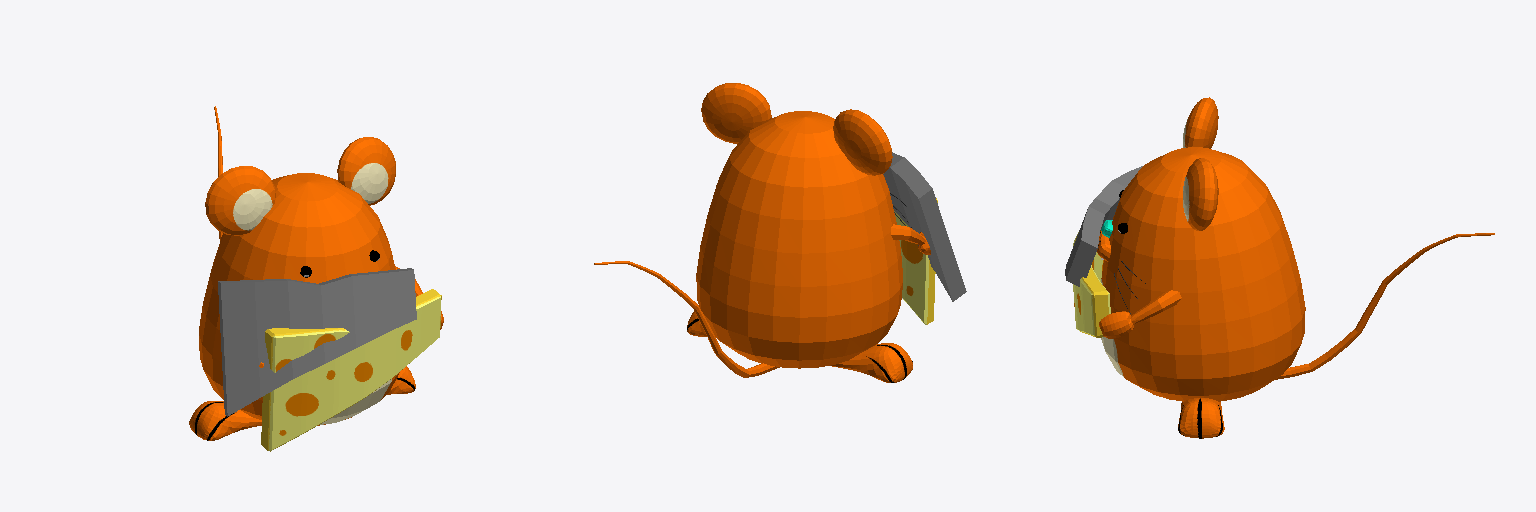
The picture shows the model from 3 angles: view 1: azimuth 30°, elevation 25°; view 2: azimuth 150°, elevation 25°; view 3: azimuth 270°, elevation 25°; orthographic projection.
Visible parts, largest first — view 1: geo_grp All Mouse:Sphere001, pasted__pCube2, pCube2, geo_grp All pSphere4, geo_grp All Box001; view 2: geo_grp All Mouse:Sphere001, geo_grp All pSphere4, pasted__pCube2, pCube2, geo_grp All Box001, geo_grp All Mouse1:Cylinder001, geo_grp All polySurface1; view 3: geo_grp All Mouse:Sphere001, geo_grp All pSphere4, pasted__pCube2, pCube2, geo_grp All Mouse1:Cylinder001, geo_grp All Box001, geo_grp All polySurface1.
Part boxes in pixels (bbox=[...]): geo_grp All Mouse:Sphere001: bbox=[199, 173, 399, 425]; pasted__pCube2: bbox=[218, 268, 416, 416]; pCube2: bbox=[261, 289, 441, 451]; geo_grp All pSphere4: bbox=[205, 137, 395, 235]; geo_grp All Box001: bbox=[189, 366, 415, 440]; geo_grp All Mouse:Sphere001: bbox=[696, 111, 902, 368]; geo_grp All pSphere4: bbox=[701, 83, 892, 175]; pasted__pCube2: bbox=[883, 152, 966, 301]; pCube2: bbox=[894, 198, 937, 324]; geo_grp All Box001: bbox=[687, 310, 912, 382]; geo_grp All Mouse1:Cylinder001: bbox=[594, 261, 779, 377]; geo_grp All polySurface1: bbox=[891, 224, 930, 254]; geo_grp All Mouse:Sphere001: bbox=[1101, 147, 1305, 401]; geo_grp All pSphere4: bbox=[1183, 97, 1218, 230]; pasted__pCube2: bbox=[1065, 166, 1142, 286]; pCube2: bbox=[1073, 232, 1110, 337]; geo_grp All Mouse1:Cylinder001: bbox=[1275, 233, 1494, 379]; geo_grp All Box001: bbox=[1178, 398, 1224, 438]; geo_grp All polySurface1: bbox=[1099, 290, 1181, 338].
Bounding box in the file's own units: 115 × 126 × 189.
5 materials, 2 textured.